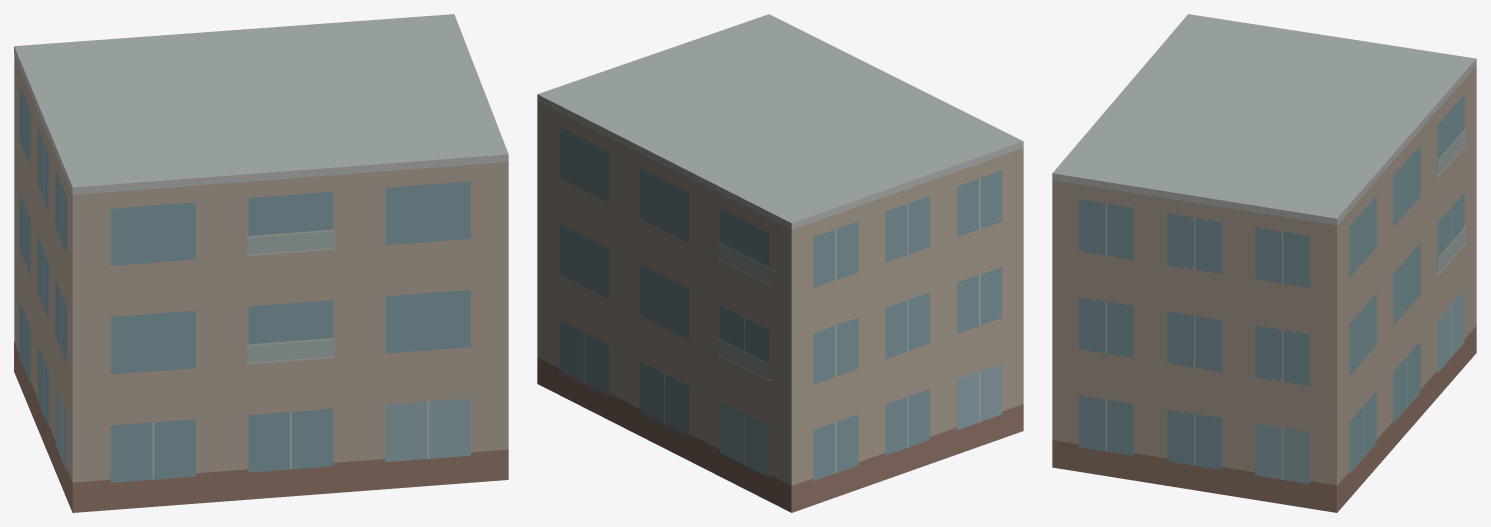
The model's file is survey-upis-32656931.glb.
3 views of the same model, side by side, from view 1: azimuth 30°, elevation 25°; view 2: azimuth 150°, elevation 25°; view 3: azimuth 270°, elevation 25° (orthographic). The views are drawn at different scales.
Visible parts, largest first — view 1: survey-upis-32656931.tmp; view 2: survey-upis-32656931.tmp; view 3: survey-upis-32656931.tmp.
Part boxes in pixels (x1,y1,x2,y2): survey-upis-32656931.tmp: [14, 14, 508, 512]; survey-upis-32656931.tmp: [537, 14, 1023, 512]; survey-upis-32656931.tmp: [1052, 14, 1476, 512].
Bounding box in the file's own units: 15.68 × 10.5 × 13.74.
